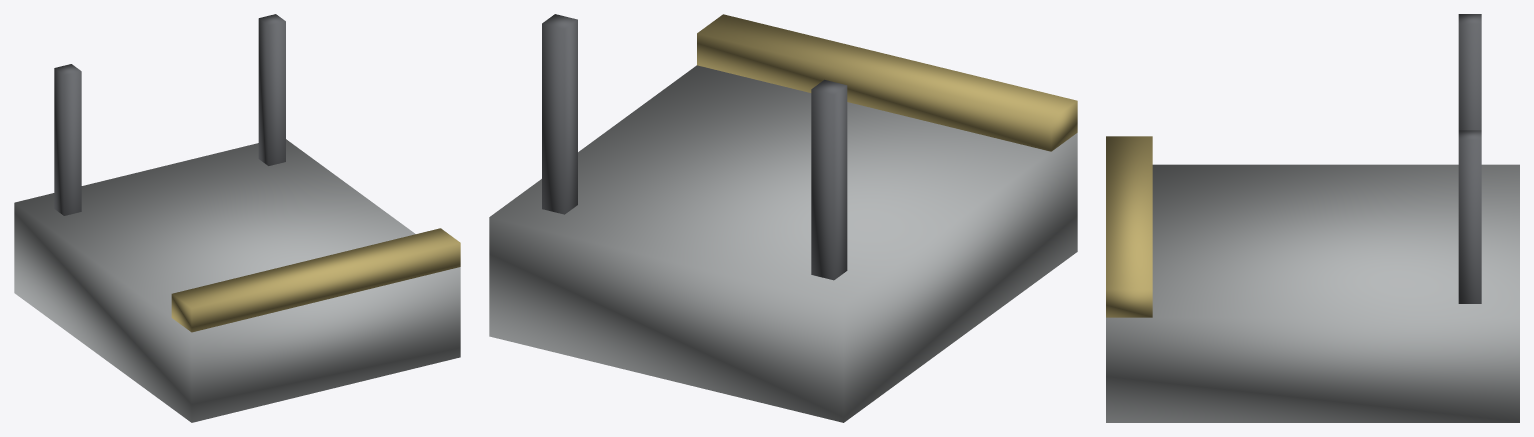
The model's file is loading_dock_01.glb.
3 renders of one model, left to right at view 1: azimuth 30°, elevation 25°; view 2: azimuth 150°, elevation 25°; view 3: azimuth 270°, elevation 25°, orthographic. The views are drawn at different scales.
Visible parts, largest first — view 1: world; view 2: world; view 3: world.
Boxes of the visible parts, left/top/right/bottom form: world: left=14, top=14, right=460, bottom=422; world: left=489, top=14, right=1077, bottom=422; world: left=1106, top=14, right=1519, bottom=422.
Size of the model in its own units: 1.4 by 1.15 by 1.6.
